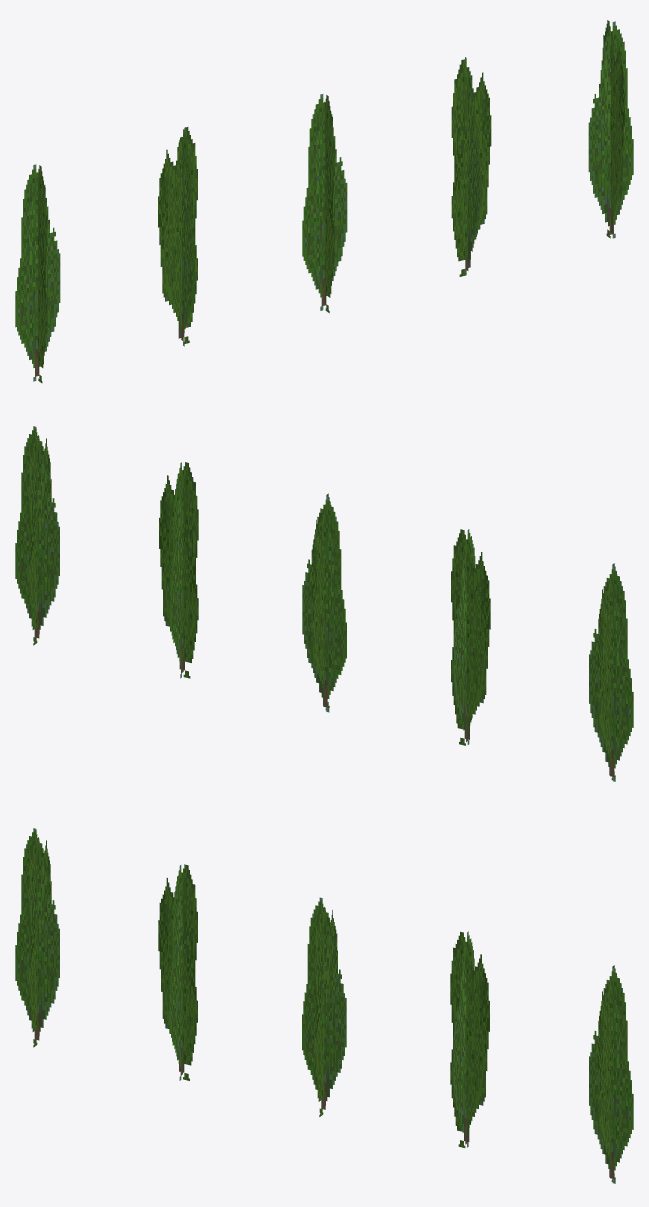
Rendered from uvmd-0158.glb.
The picture shows the model from 3 angles, top to bottom: view 1: azimuth 30°, elevation 25°; view 2: azimuth 150°, elevation 25°; view 3: azimuth 330°, elevation 25°; orthographic projection.
Visible parts, largest first — view 1: uvmd-0158; view 2: uvmd-0158; view 3: uvmd-0158.
Boxes of the visible parts, x1,y1,x2,y2 form: uvmd-0158: (15, 20, 633, 383); uvmd-0158: (15, 426, 633, 781); uvmd-0158: (15, 828, 633, 1183).
Size of the model in its own units: 650 by 216 by 50.
Materials: 2 (2 with a texture image).
